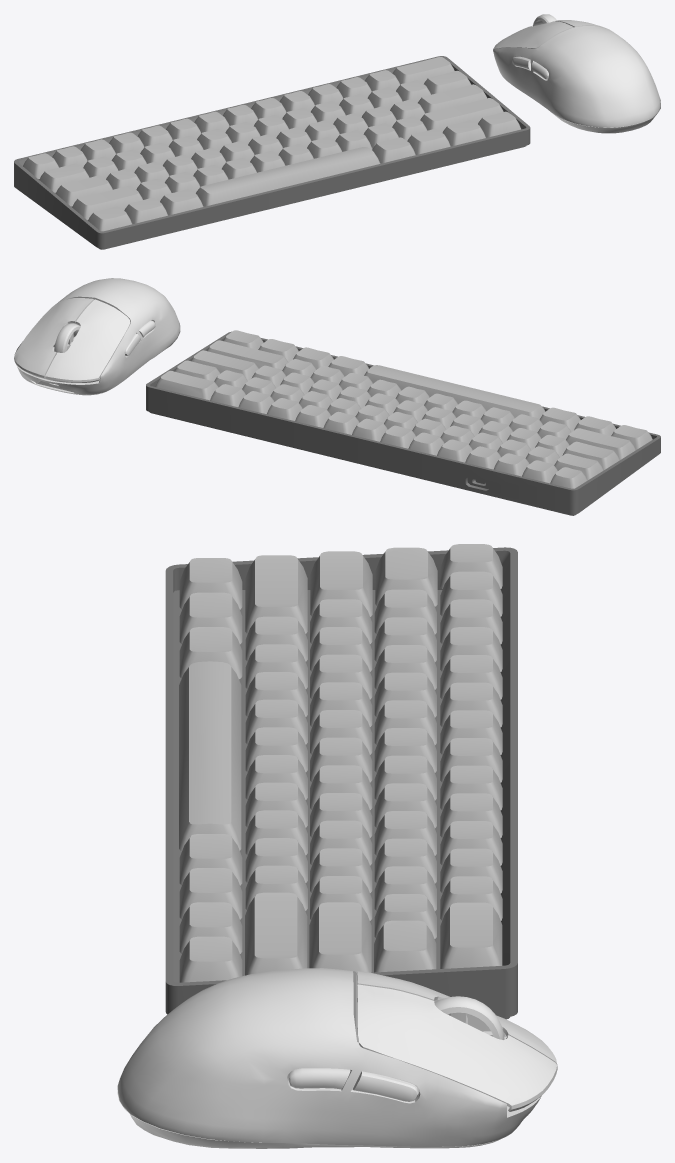
Rendered from Teclado.obj.
3 renders of one model, top to bottom at view 1: azimuth 30°, elevation 25°; view 2: azimuth 150°, elevation 25°; view 3: azimuth 270°, elevation 25°, orthographic. The views are drawn at different scales.
Visible parts, largest first — view 1: Teclado; view 2: Teclado; view 3: Teclado.
Part boxes in pixels (left/top/right/bottom): Teclado: left=14, top=14, right=660, bottom=249; Teclado: left=14, top=278, right=660, bottom=515; Teclado: left=117, top=544, right=557, bottom=1148.
Bounding box in the file's own units: 1.8 × 0.1935 × 0.602.
3 materials, 3 textured.
